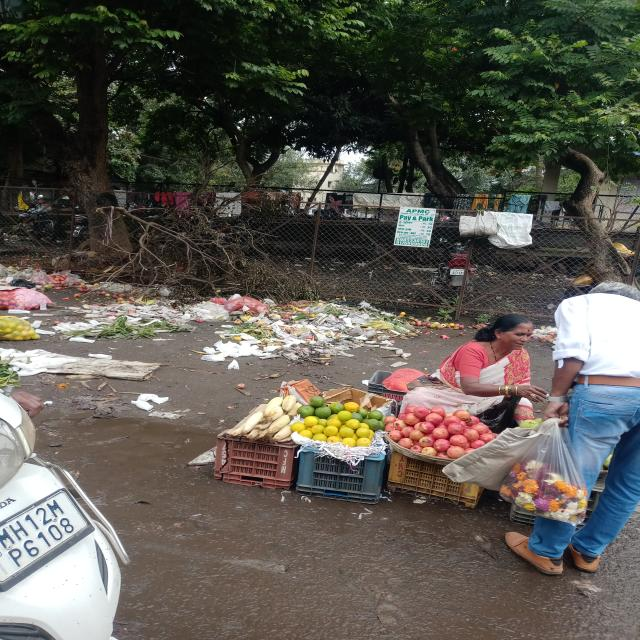garbage: (78, 294, 426, 366), (3, 262, 134, 295)
